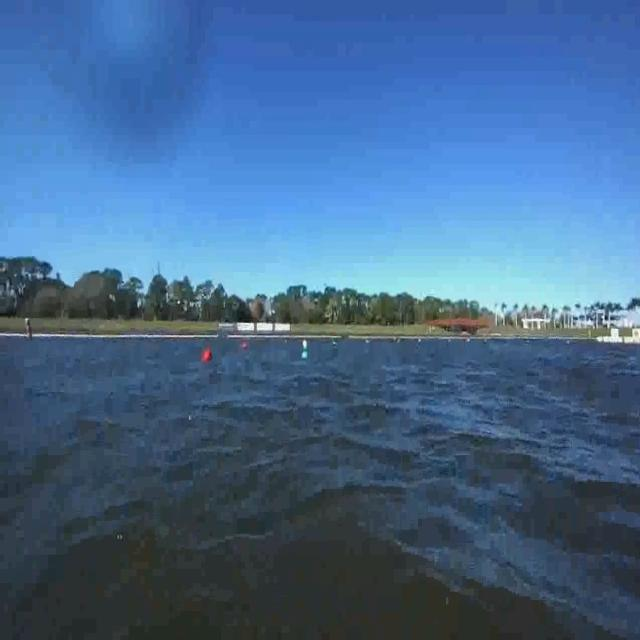green-buoy: (303, 349, 309, 361)
red-buoy: (202, 348, 212, 366)
yellow-buoy: (8, 610, 18, 627)
